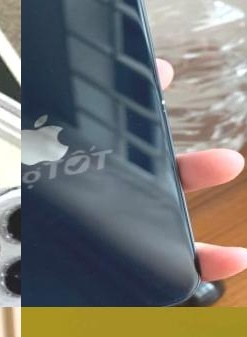physical_damage: (148, 89, 174, 115)
